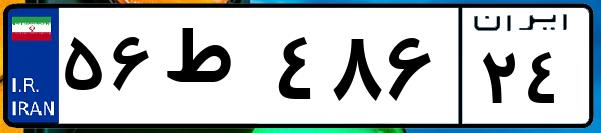2: (475, 38, 525, 113)
4: (270, 28, 330, 110), (525, 38, 570, 115)
5: (57, 26, 110, 100)
6: (385, 28, 445, 110), (110, 28, 158, 98)
8: (330, 28, 385, 110)
ط: (158, 20, 270, 120)
